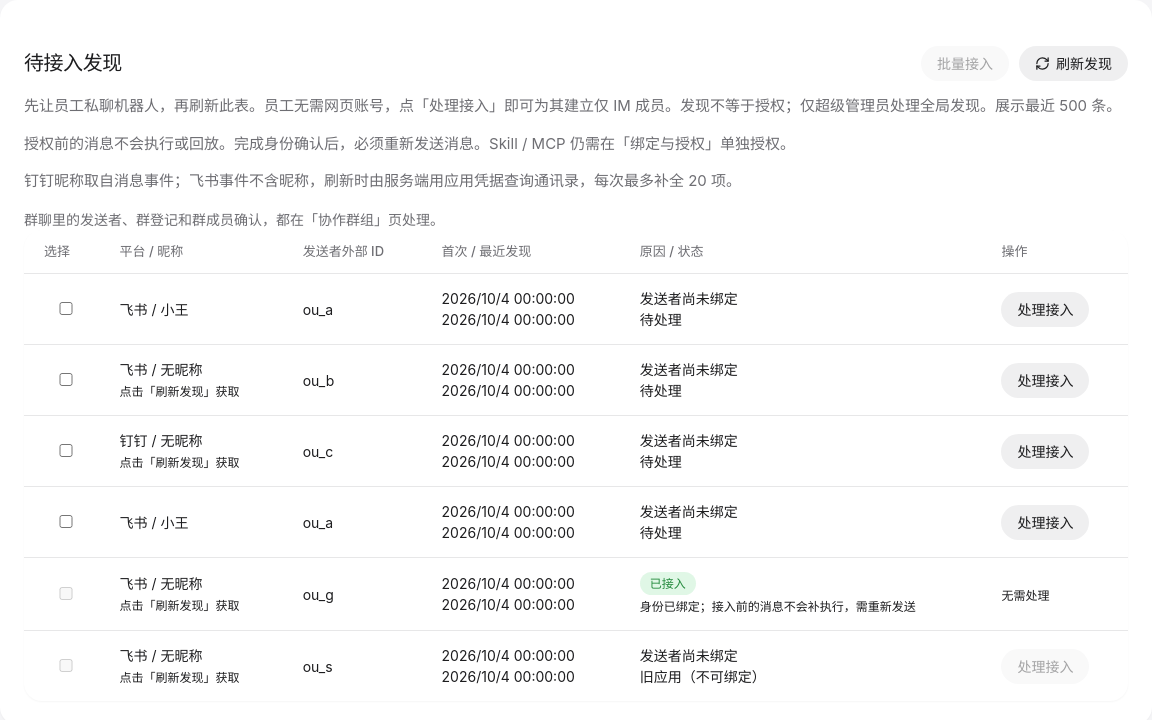
Scenario: only lets one platform and one row per sender be picked
Expected: the button "批量接入" is disabled, left=921, top=46, right=1009, bottom=81
Click the 1st checkbox named "选择 小王" at (66, 308), box left=48, top=302, right=84, bottom=314
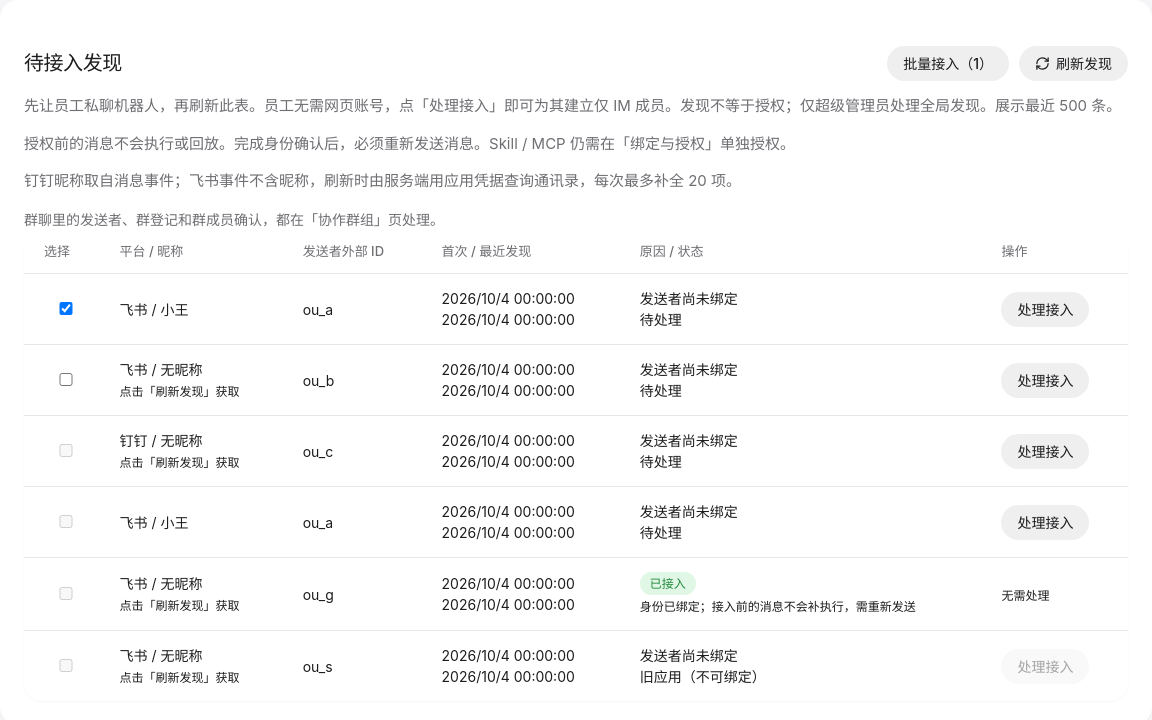
Expected: the button "批量接入（1）" is shown, left=887, top=46, right=1009, bottom=81
Expected: the checkbox named "选择 ou_c" is disabled, left=48, top=444, right=84, bottom=456
Expected: the 2nd checkbox named "选择 小王" is disabled, left=48, top=514, right=84, bottom=528
Click the 1st checkbox named "选择 小王" at (66, 308), box left=48, top=302, right=84, bottom=314
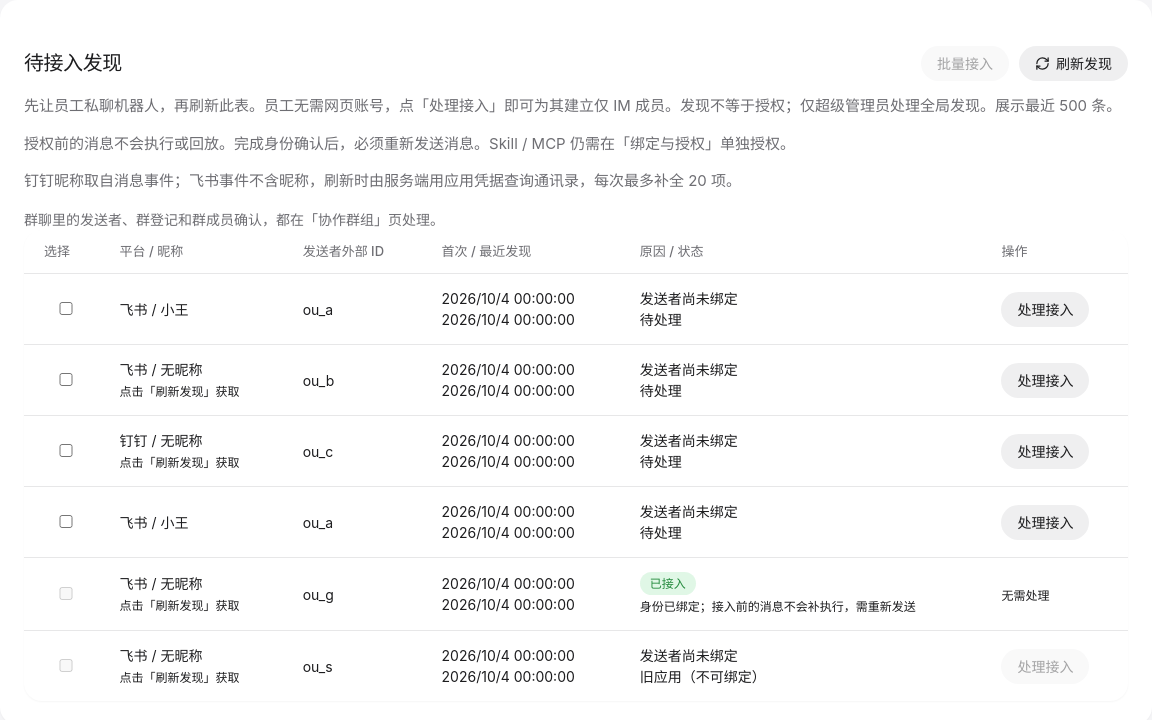
Expected: the button "批量接入" is shown, left=921, top=46, right=1009, bottom=81
Expected: the checkbox named "选择 ou_c" is enabled, left=48, top=444, right=84, bottom=456
